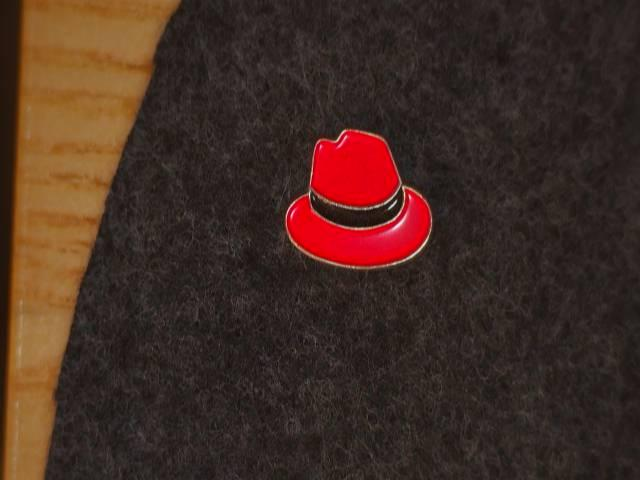Red-Hat: (266, 112, 447, 285)
